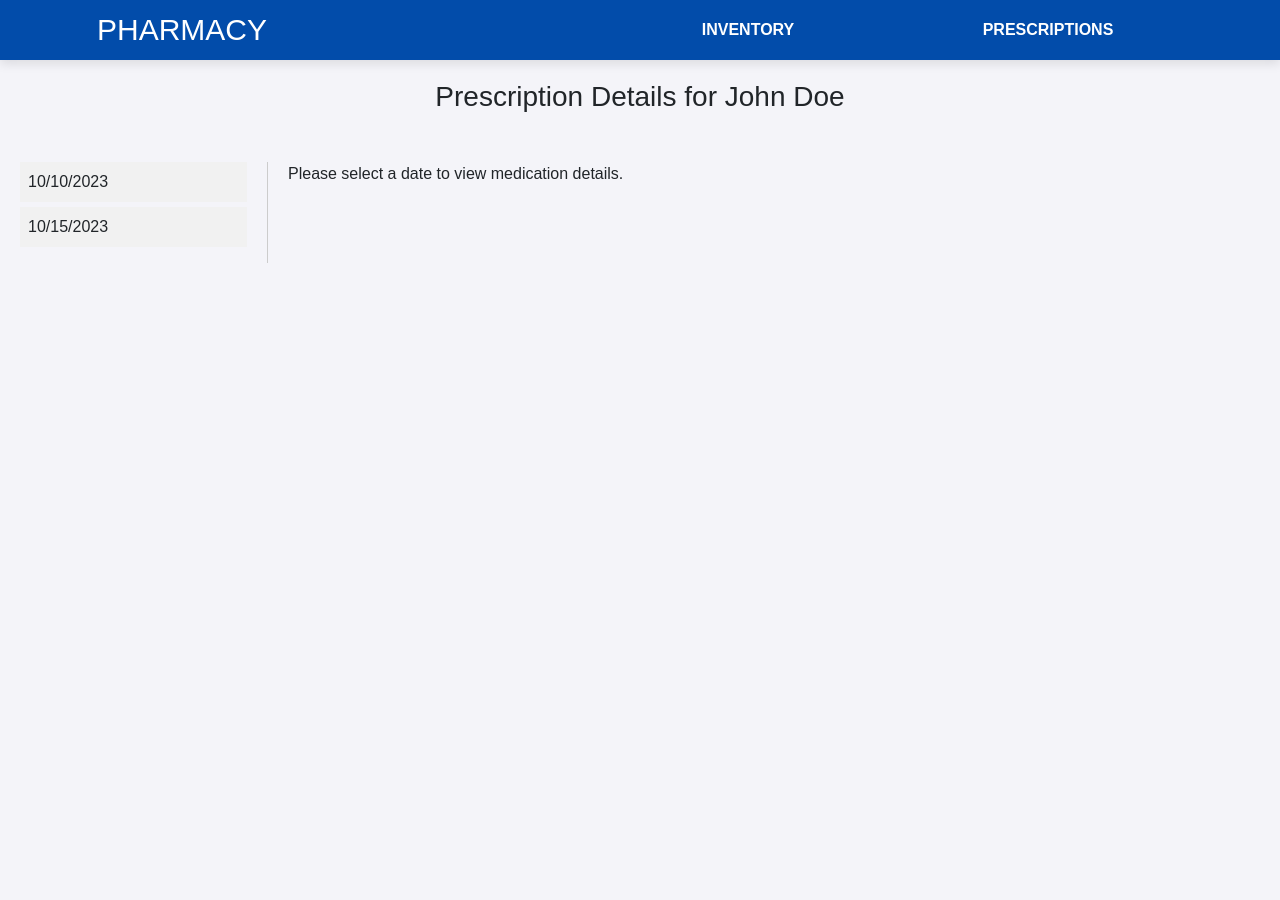
Scenario: PatientPrescriptions Component › generates bill for selected medications
Click the text "10/10/2023": (68, 181) 28,173 -> 108,190
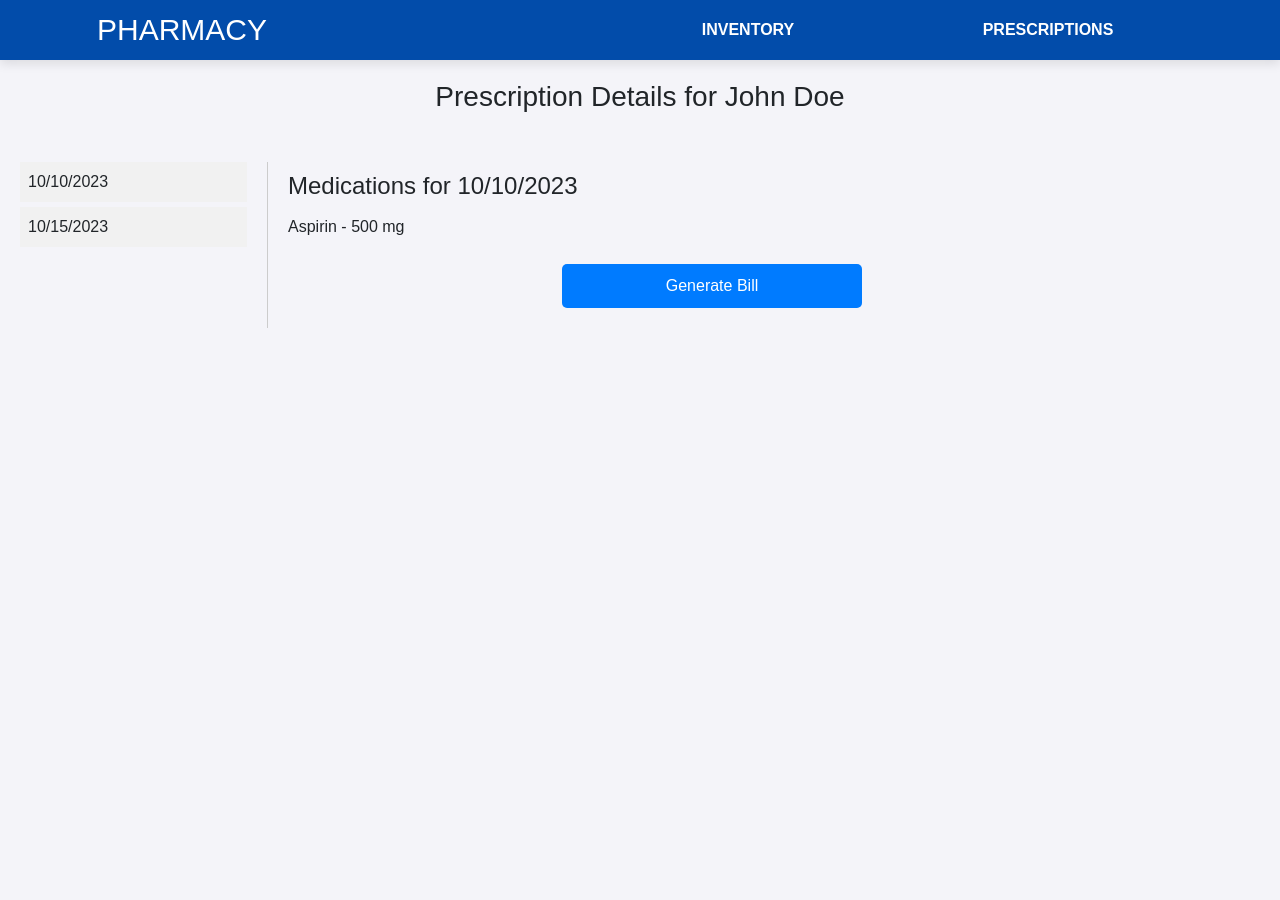
Click the button "Generate Bill": (712, 286) 562,264 -> 862,308
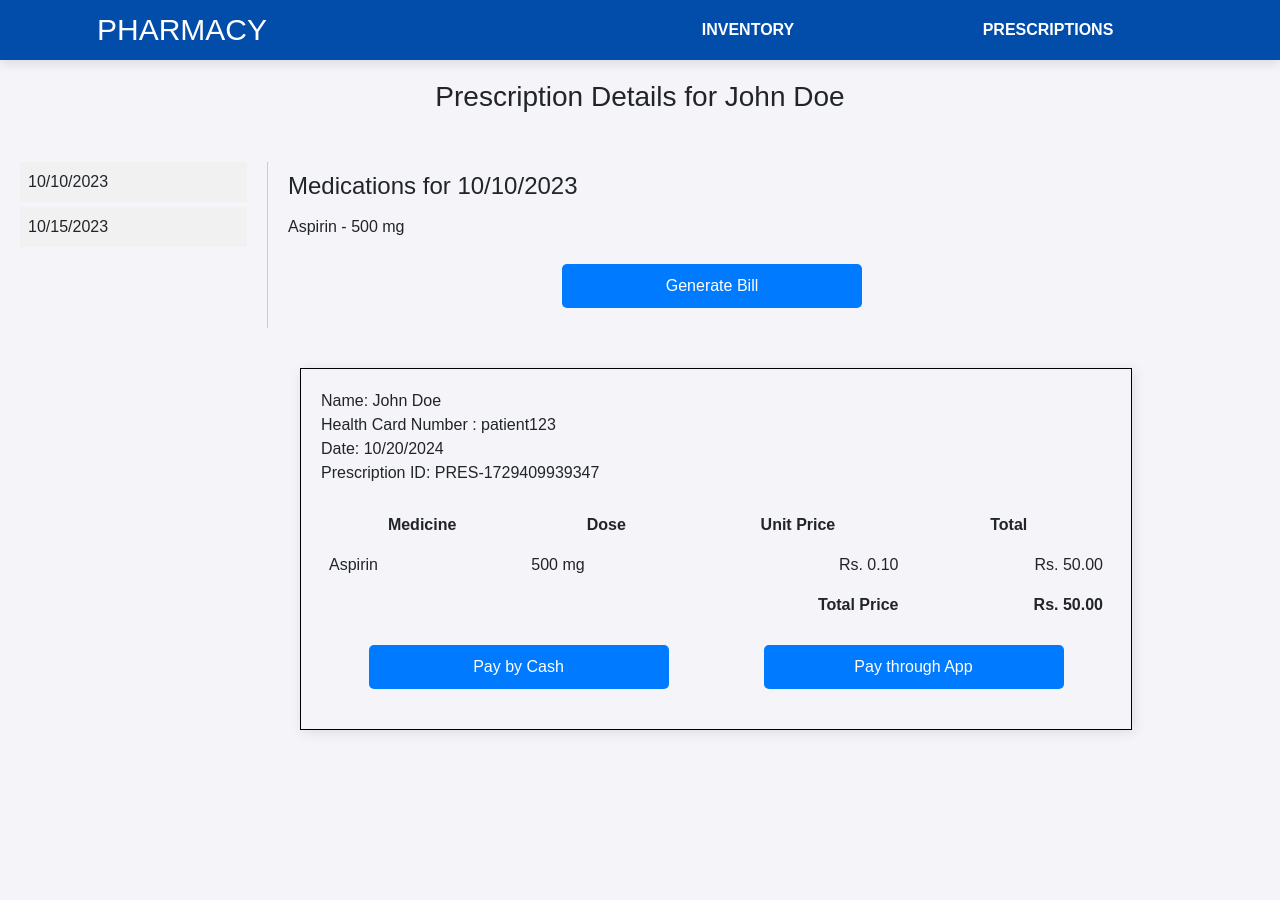
Result: the element with class "bill-details" is shown at 300,368 -> 1132,730
Result: the cell with class "bill-total" is shown at 906,585 -> 1111,625
Result: the cell "Rs. 50.00" next to "0.10" is shown at 906,545 -> 1111,585
